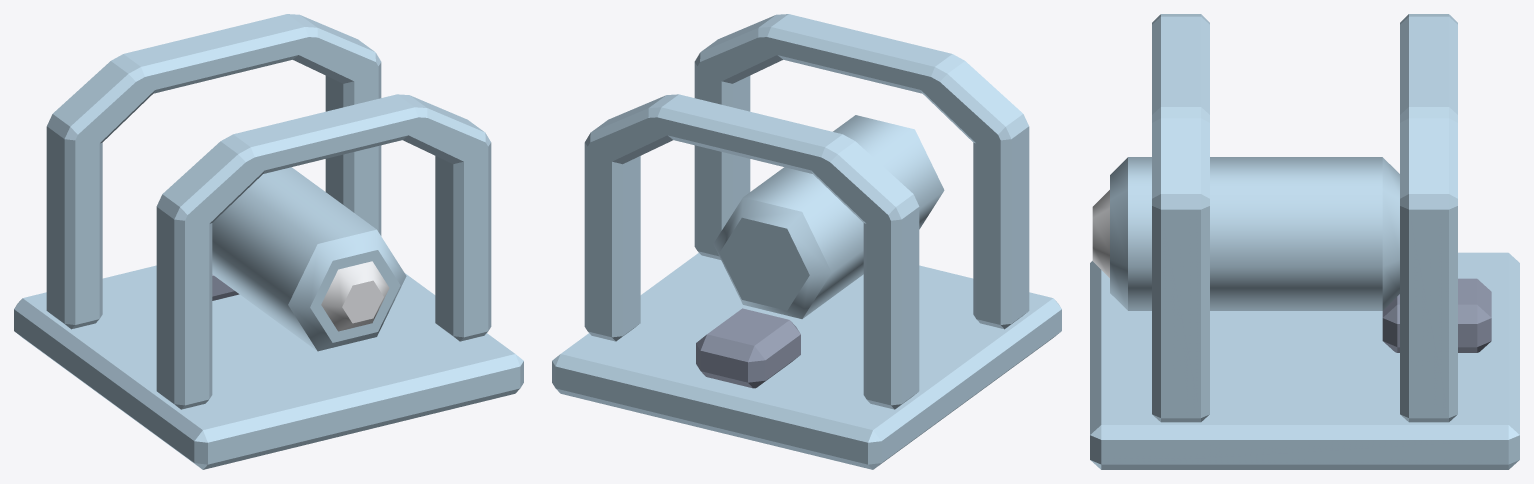
Rendered from R4X_WeaponDurabilityBooster_LOD1.glb.
3 renders of one model, left to right at view 1: azimuth 30°, elevation 25°; view 2: azimuth 150°, elevation 25°; view 3: azimuth 270°, elevation 25°, orthographic. The views are drawn at different scales.
Parts seen in each view (by area): view 1: R4X_WeaponDurabilityBooster_LOD1; view 2: R4X_WeaponDurabilityBooster_LOD1; view 3: R4X_WeaponDurabilityBooster_LOD1.
Boxes of the visible parts, x1,y1,x2,y2 form: R4X_WeaponDurabilityBooster_LOD1: (14, 14, 523, 469); R4X_WeaponDurabilityBooster_LOD1: (552, 14, 1061, 469); R4X_WeaponDurabilityBooster_LOD1: (1090, 14, 1519, 469).
Bounding box in the file's own units: 0.52 × 0.43 × 0.52.
